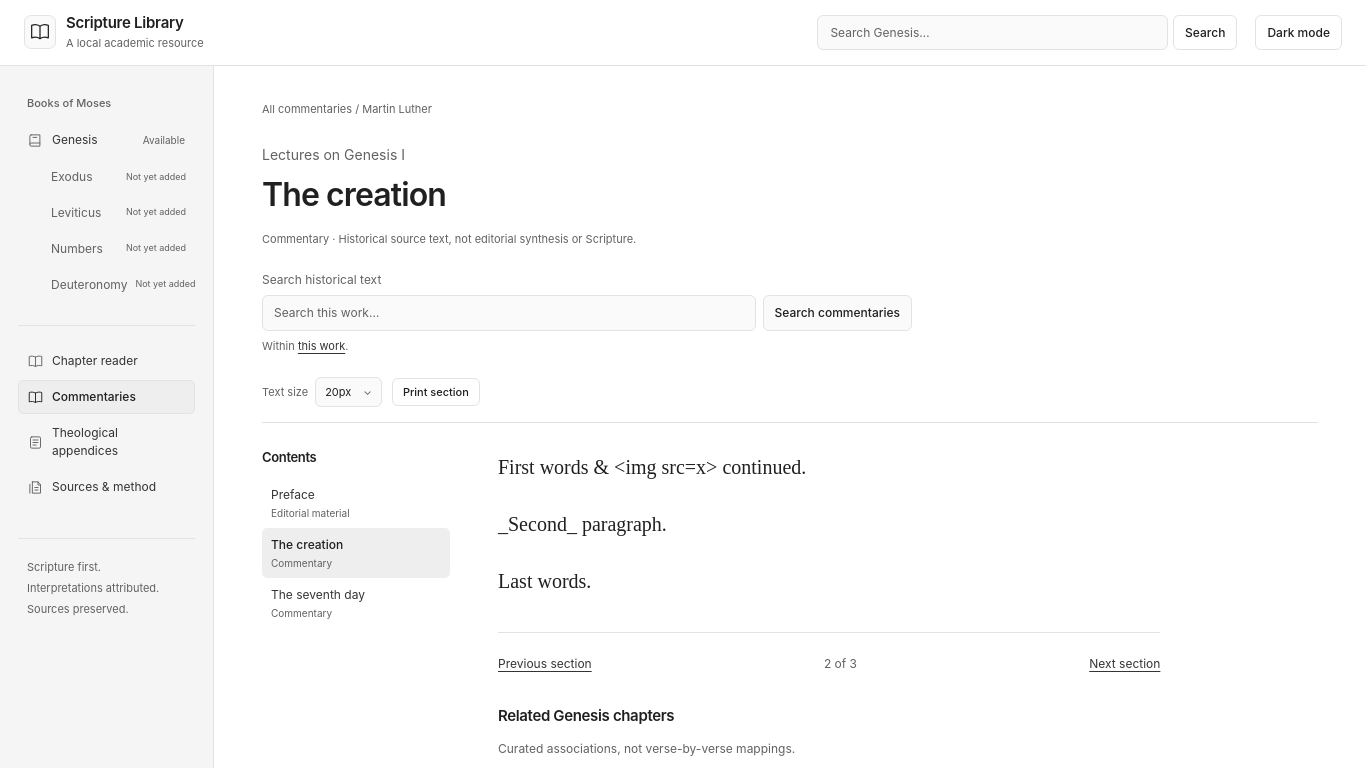
Test: searches full historical text separately from Genesis with scoped, encoded deep links and literal snippets
Expected: the element named "The creation" is shown, [498, 456, 806, 592]
Step 1. Type "faith/works & words" into the search field labelled "Search historical text" → point(509, 313), box [262, 295, 756, 331]
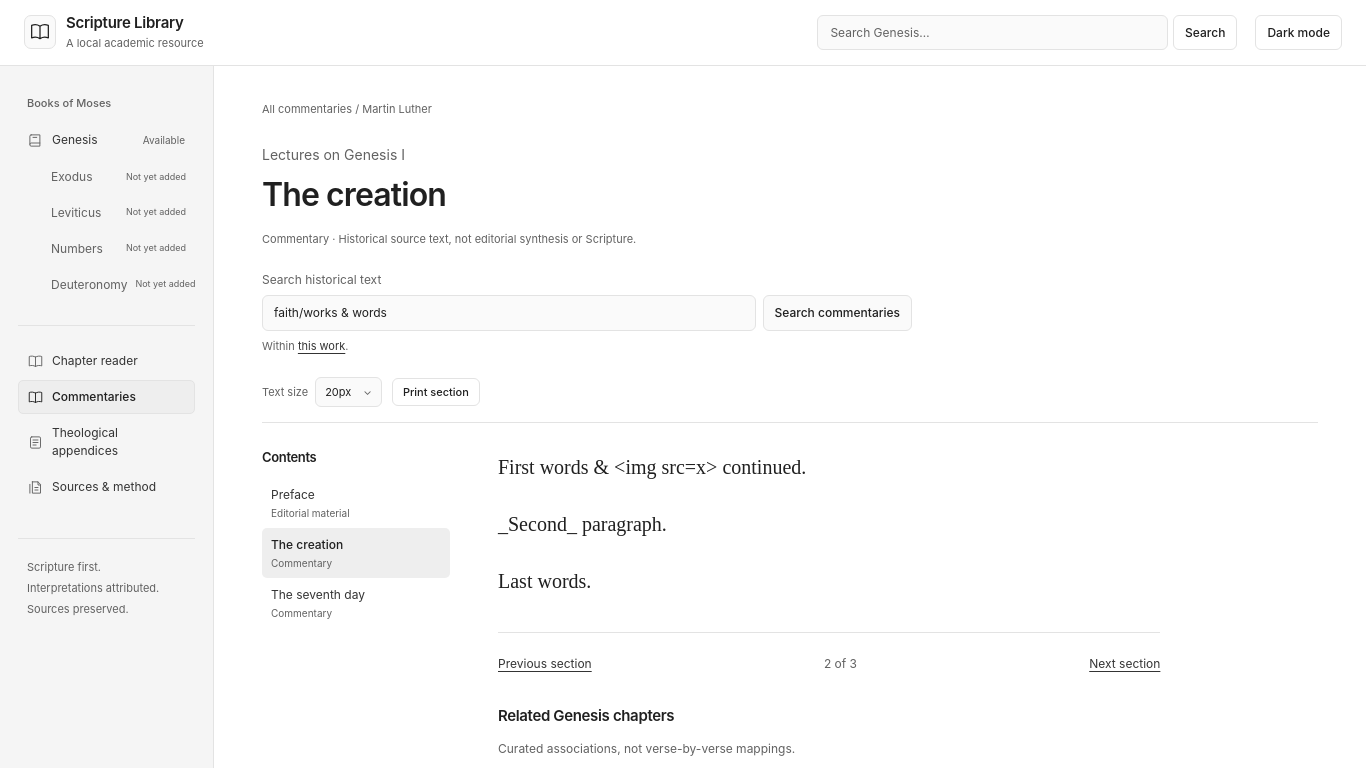
Step 2. Submit the form named "Search historical works", box [262, 270, 912, 355]
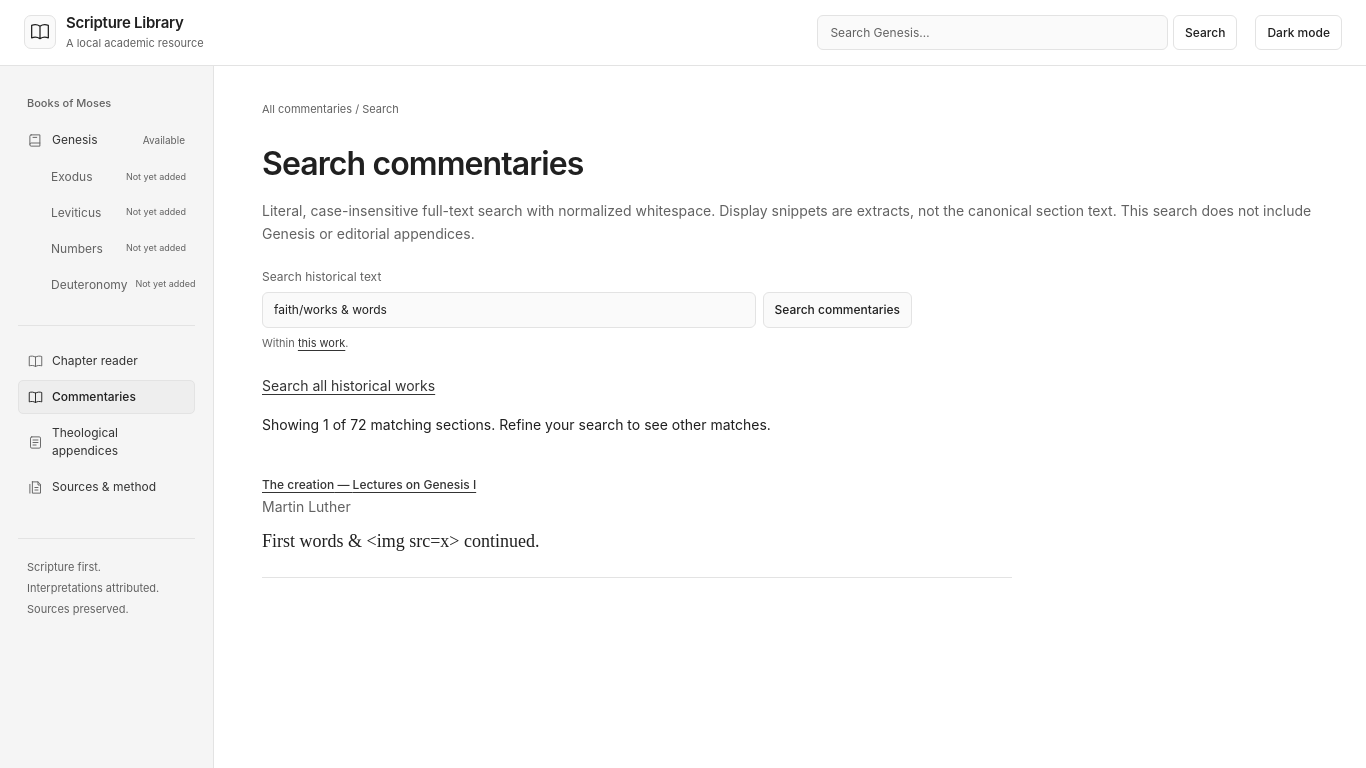
Result: the link "The creation — Lectures on Genesis I" is shown at [262, 477, 476, 492]
Result: the text "Showing 1 of 72 matching sections. Refine your search to see other matches." is shown at [262, 416, 771, 433]
Result: the text "Literal, case-insensitive" is shown at [262, 202, 1311, 242]
Step 3. Type "beginning" into the search field named "Search the Genesis text" → point(993, 32), box [817, 15, 1168, 50]
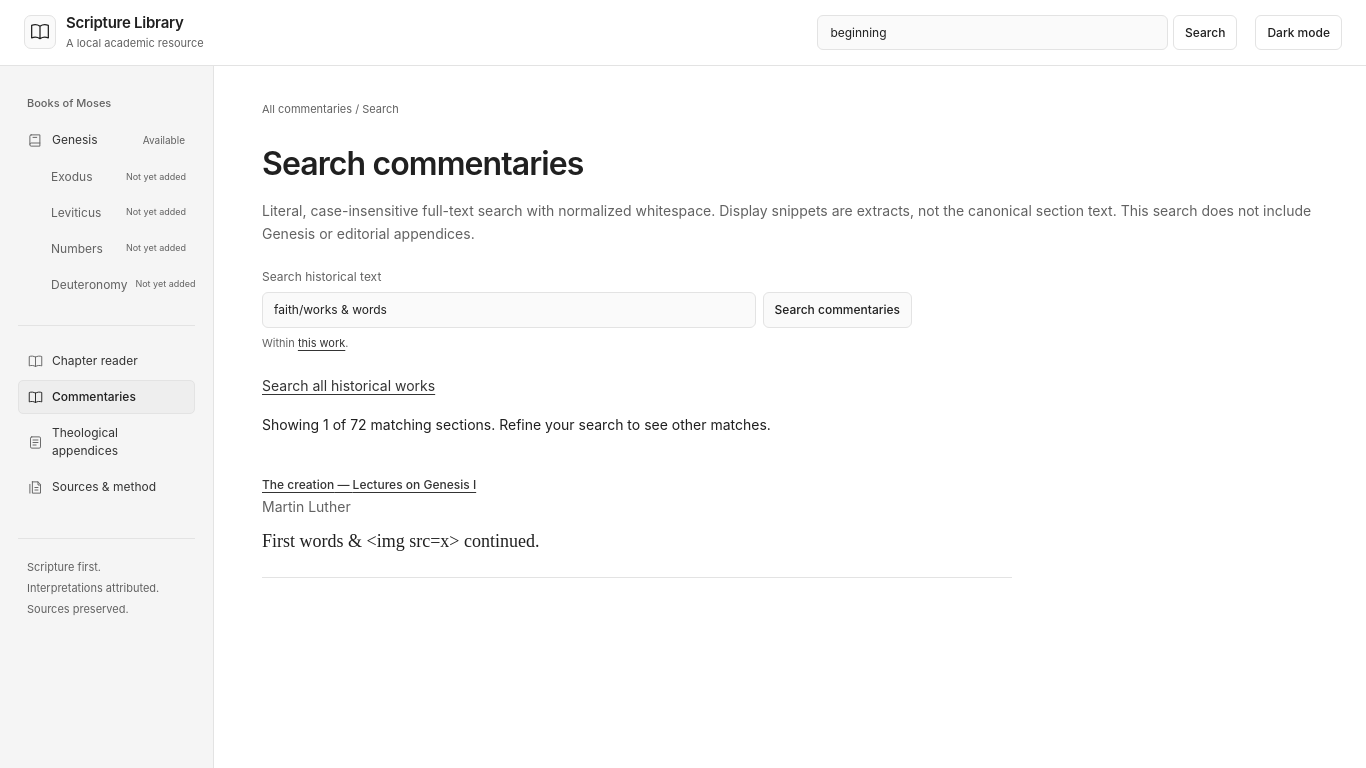
Step 4. Submit the form with id "search-form", box [817, 15, 1237, 50]
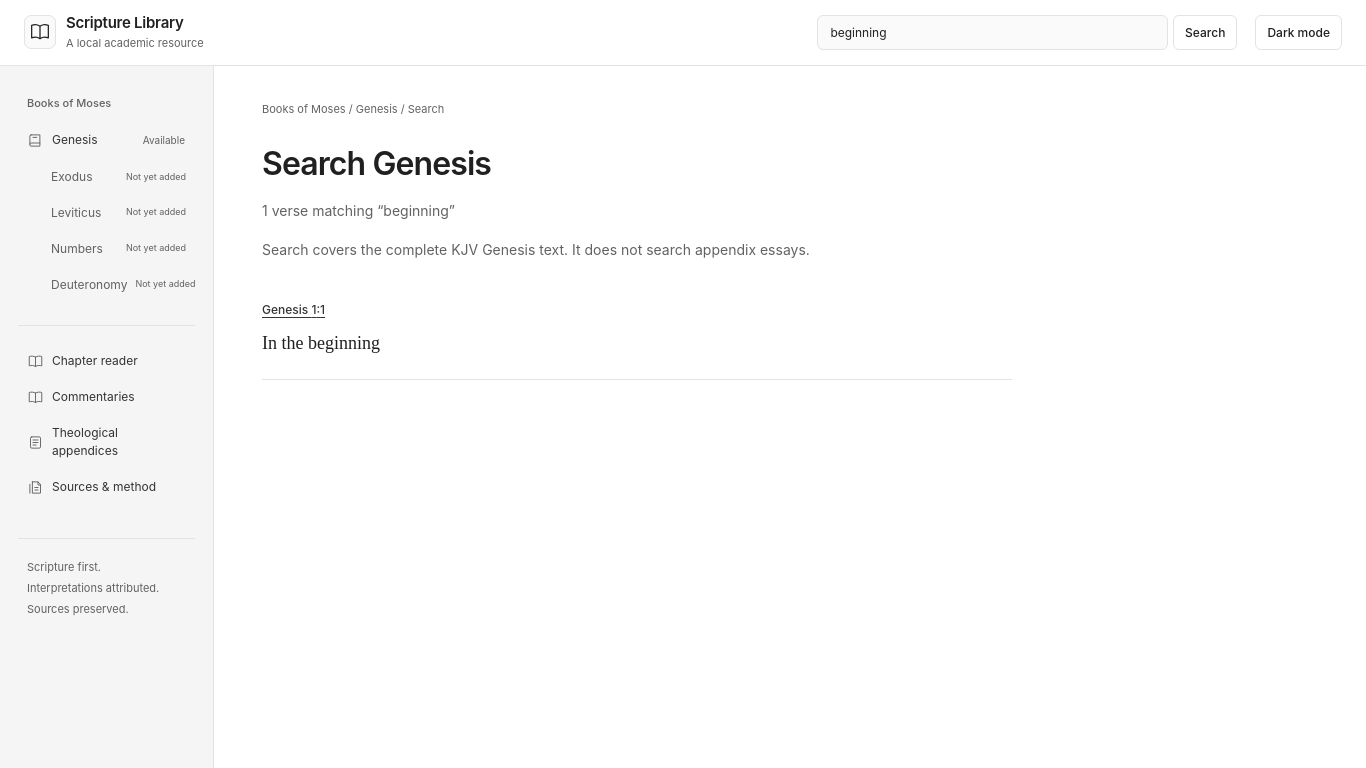
Result: the heading "Search Genesis" is shown at [262, 144, 491, 183]
Result: the link "Genesis 1:1" is shown at [262, 302, 325, 317]
